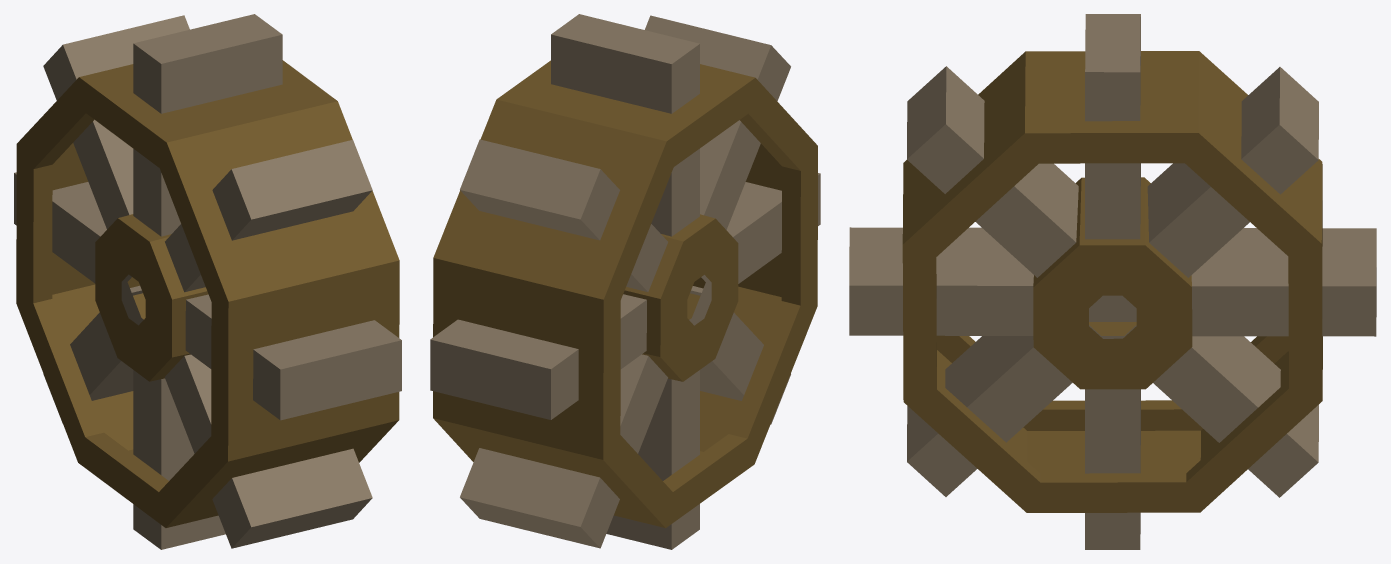
Rendered from Waer_Wheel.fbx.
The picture shows the model from 3 angles, left to right: view 1: azimuth 30°, elevation 25°; view 2: azimuth 150°, elevation 25°; view 3: azimuth 270°, elevation 25°; orthographic projection.
Parts seen in each view (by area): view 1: polySurface464, polySurface465, polySurface466; view 2: polySurface464, polySurface465, polySurface466; view 3: polySurface465, polySurface464, polySurface466.
Part boxes in pixels (left/top/right/bottom): polySurface464: left=16, top=60, right=399, bottom=527; polySurface465: left=14, top=14, right=401, bottom=549; polySurface466: left=95, top=214, right=208, bottom=381; polySurface464: left=433, top=60, right=817, bottom=528; polySurface465: left=430, top=14, right=820, bottom=549; polySurface466: left=623, top=214, right=738, bottom=381; polySurface465: left=849, top=14, right=1376, bottom=549; polySurface464: left=902, top=51, right=1322, bottom=512; polySurface466: left=1033, top=177, right=1192, bottom=389.
Size of the model in its own units: 1.59 by 4.3 by 4.3.
